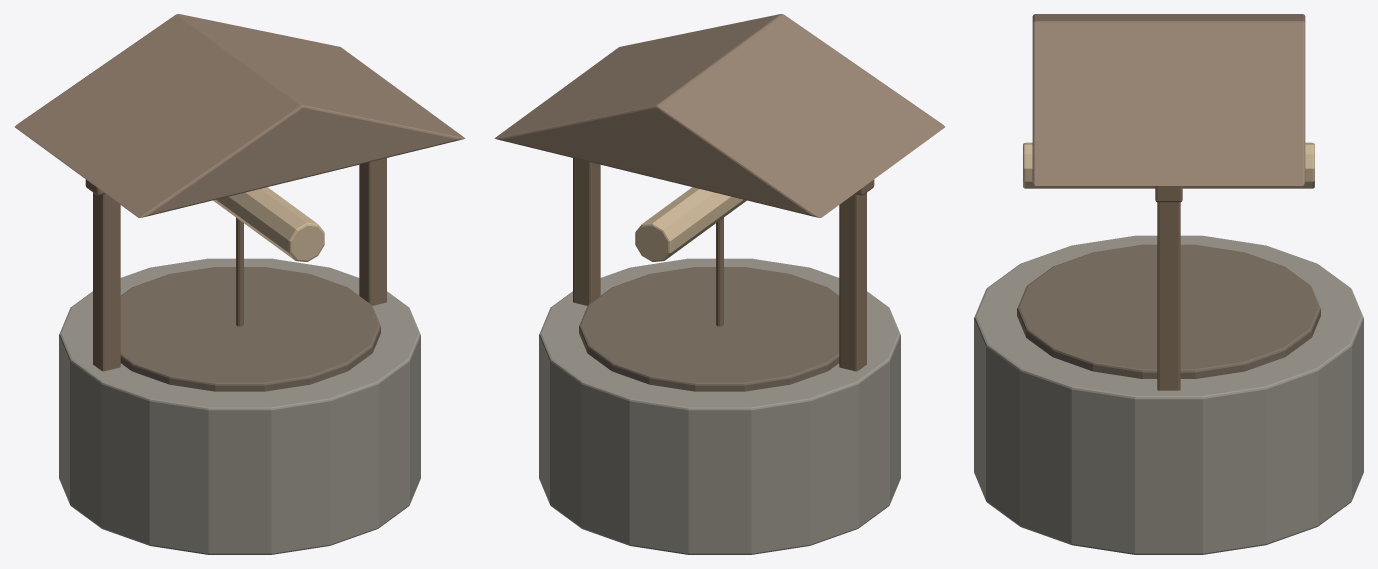
The model's file is well.glb.
3 views of the same model, side by side, from view 1: azimuth 30°, elevation 25°; view 2: azimuth 150°, elevation 25°; view 3: azimuth 270°, elevation 25° (orthographic). The views are drawn at different scales.
Visible parts, largest first — view 1: ring; view 2: ring; view 3: ring.
Part boxes in pixels (x1,y1,x2,y2): ring: [15, 14, 465, 554]; ring: [494, 14, 944, 554]; ring: [974, 14, 1363, 554].
Size of the model in its own units: 2.09 by 2.57 by 2.
